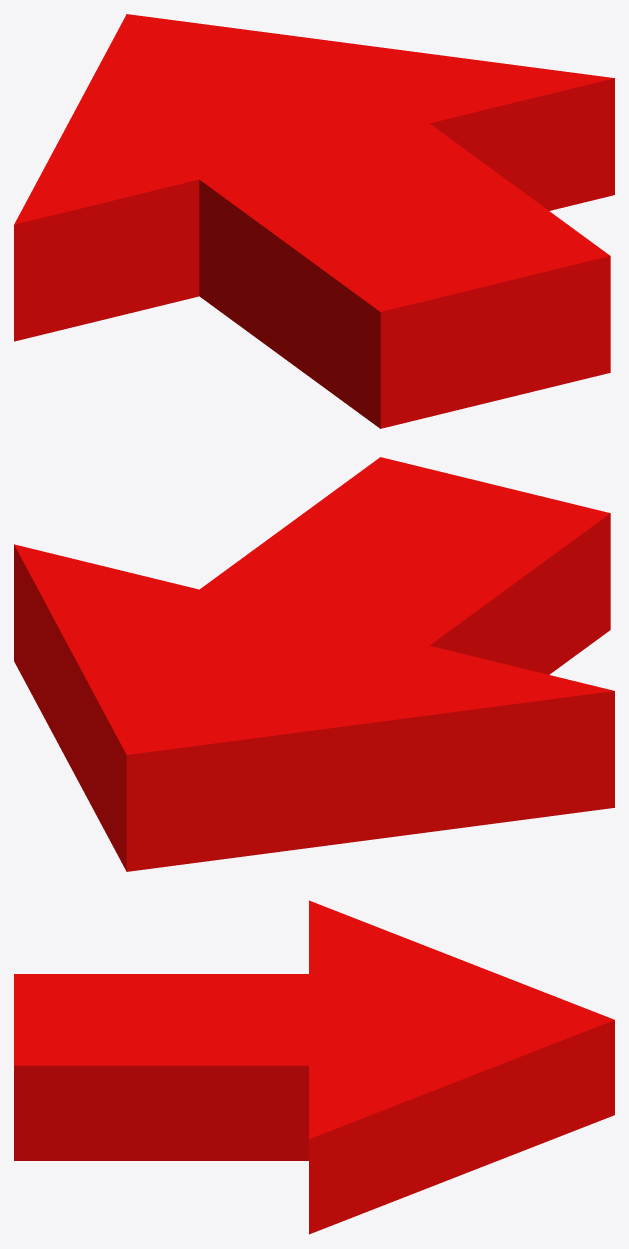
The model's file is Arrow.fbx.
3 renders of one model, top to bottom at view 1: azimuth 30°, elevation 25°; view 2: azimuth 150°, elevation 25°; view 3: azimuth 270°, elevation 25°, orthographic. The views are drawn at different scales.
Visible parts, largest first — view 1: Model; view 2: Model; view 3: Model.
Part boxes in pixels (x1,y1,x2,y2): Model: (14, 14, 614, 428); Model: (14, 457, 614, 871); Model: (14, 900, 614, 1234).
Bounding box in the file's own units: 155 × 28.75 × 164.
